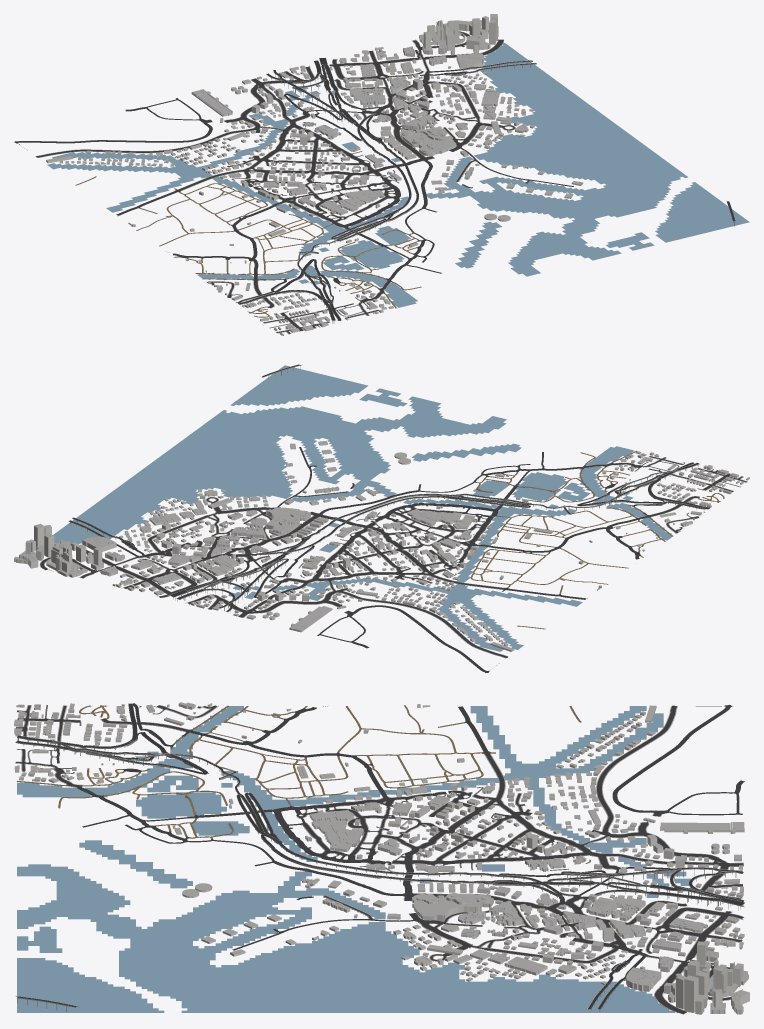
File: chunk_7_6.glb
3 renders of one model, top to bottom at view 1: azimuth 30°, elevation 25°; view 2: azimuth 150°, elevation 25°; view 3: azimuth 270°, elevation 25°, orthographic. The views are drawn at different scales.
Parts seen in each view (by area): view 1: Water_7_6, Roads_7_6, Buildings_7_6, Filler_7_6, RoadSides_7_6; view 2: Water_7_6, Roads_7_6, Buildings_7_6, RoadSides_7_6, Filler_7_6; view 3: Water_7_6, Roads_7_6, Buildings_7_6, Filler_7_6, RoadSides_7_6.
Part boxes in pixels (left/top/right/bottom): Water_7_6: left=47, top=43, right=749, bottom=307; Roads_7_6: left=14, top=31, right=735, bottom=333; Buildings_7_6: left=128, top=16, right=583, bottom=335; Filler_7_6: left=46, top=14, right=534, bottom=327; RoadSides_7_6: left=35, top=31, right=735, bottom=334; Water_7_6: left=53, top=365, right=671, bottom=651; Roads_7_6: left=40, top=364, right=746, bottom=672; Buildings_7_6: left=14, top=440, right=749, bottom=632; RoadSides_7_6: left=39, top=364, right=747, bottom=658; Filler_7_6: left=29, top=451, right=723, bottom=651; Water_7_6: left=17, top=706, right=715, bottom=1012; Roads_7_6: left=15, top=703, right=744, bottom=1014; Buildings_7_6: left=14, top=702, right=749, bottom=1014; Filler_7_6: left=14, top=705, right=744, bottom=1014; RoadSides_7_6: left=15, top=703, right=744, bottom=1012.
Bounding box in the file's own units: 2071 × 101 × 2076.
